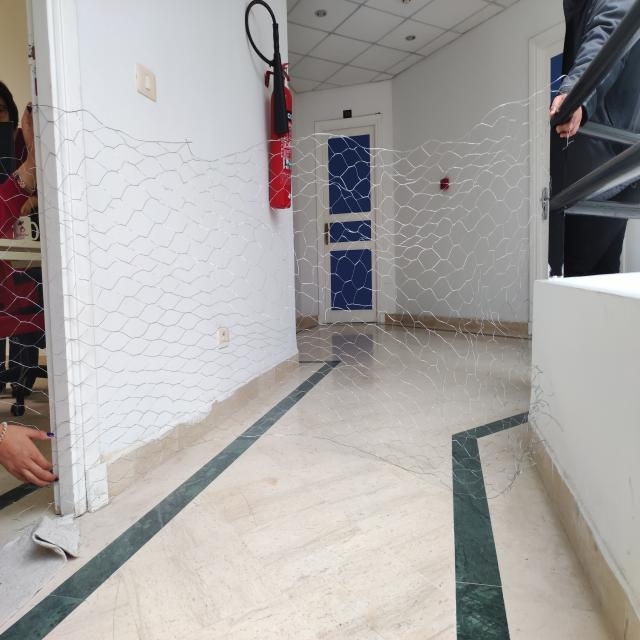fence line: (193, 136, 429, 158), (520, 429, 557, 494)
